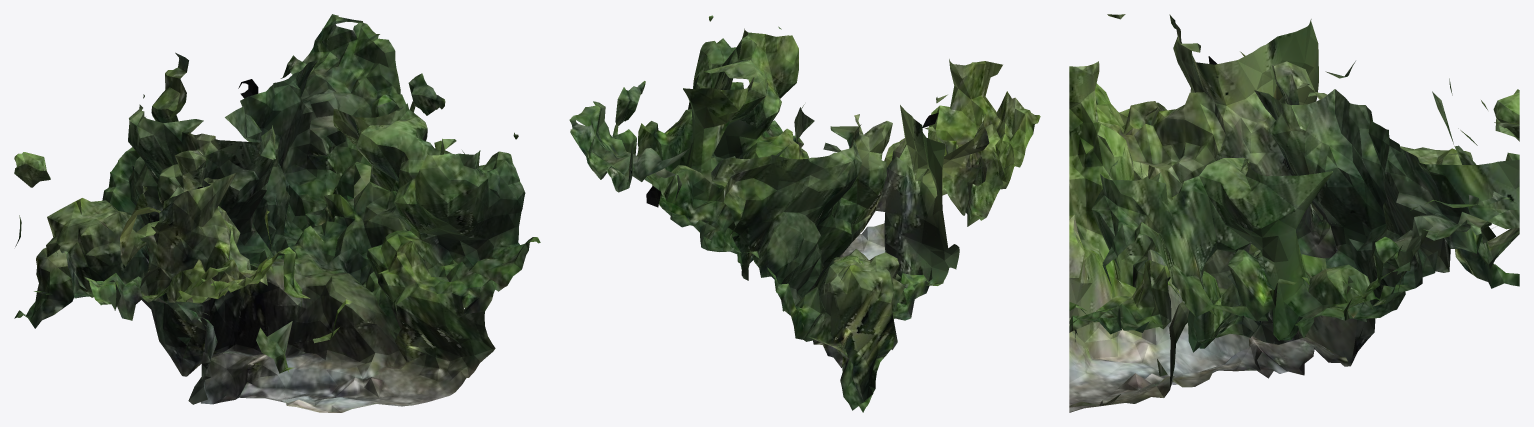
3 renders of one model, left to right at view 1: azimuth 30°, elevation 25°; view 2: azimuth 150°, elevation 25°; view 3: azimuth 270°, elevation 25°, orthographic. The views are drawn at different scales.
Size of the model in its own units: 26.11 by 19.58 by 26.11.
7 materials, 7 textured.
